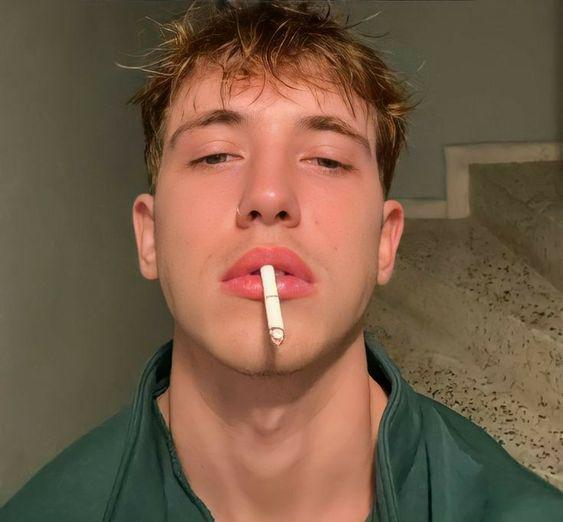cigarette: (260, 264, 285, 346)
